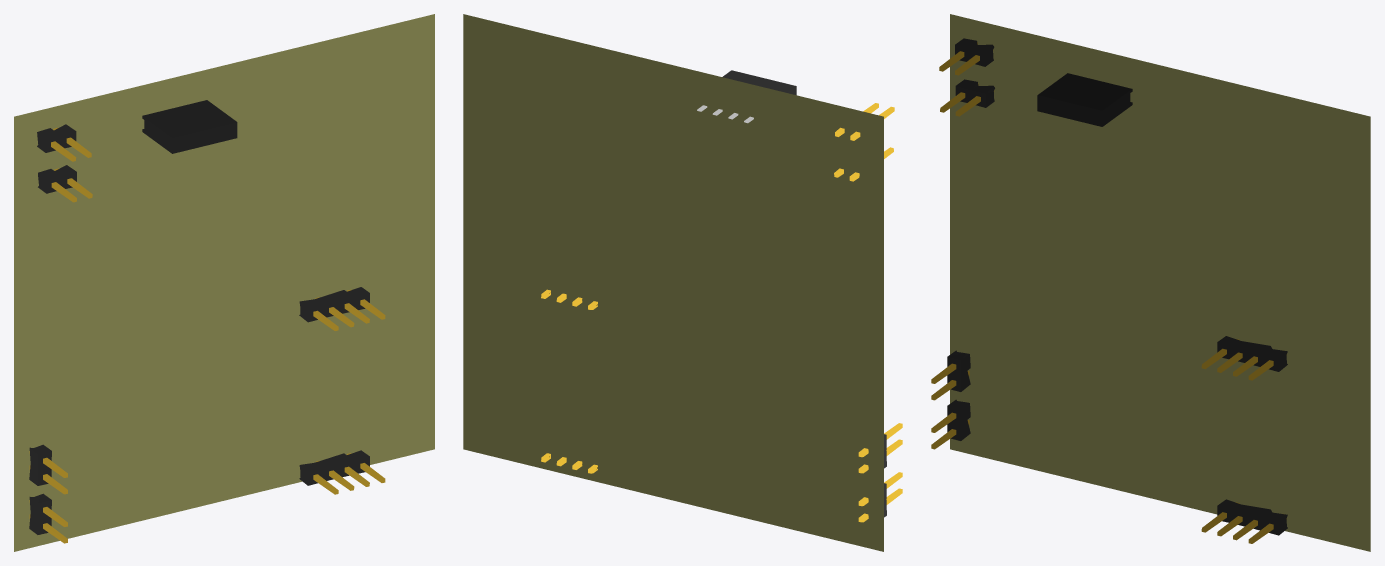
File: pcb.obj
The picture shows the model from 3 angles, left to right: view 1: azimuth 30°, elevation 25°; view 2: azimuth 150°, elevation 25°; view 3: azimuth 330°, elevation 25°; orthographic projection.
Size of the model in its own units: 269 by 266 by 46.06.
